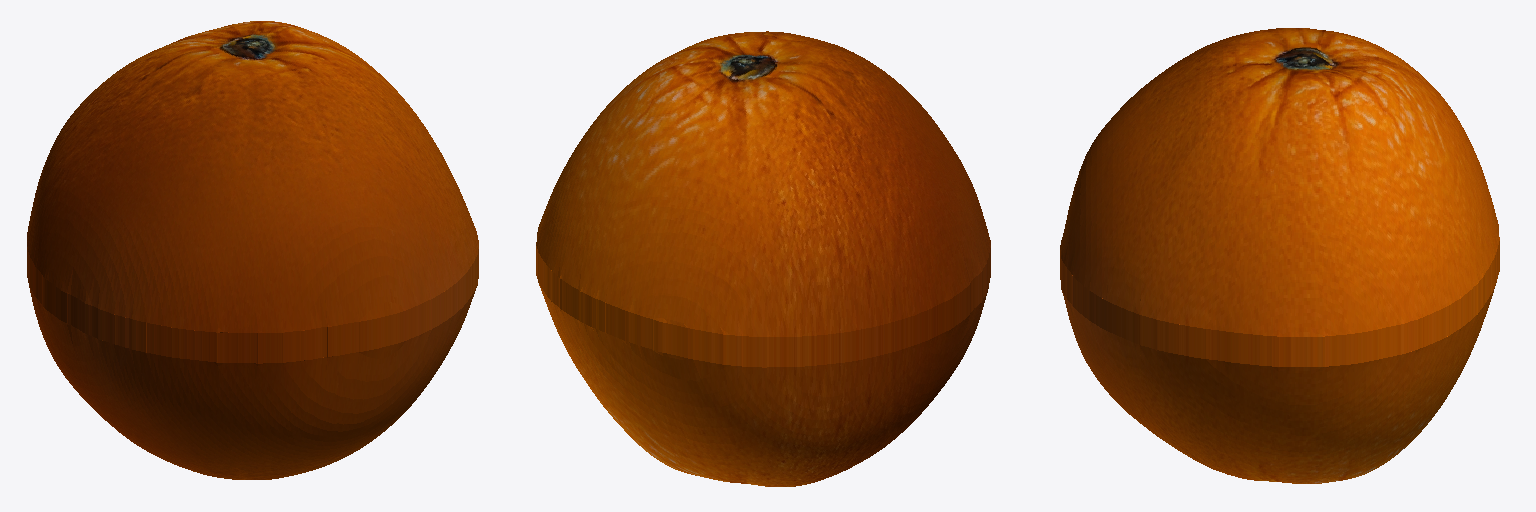
3 renders of one model, left to right at view 1: azimuth 30°, elevation 25°; view 2: azimuth 150°, elevation 25°; view 3: azimuth 270°, elevation 25°, orthographic.
Parts seen in each view (by area): view 1: Grid; view 2: Grid; view 3: Grid.
Part boxes in pixels (bbox=[...]): Grid: bbox=[27, 21, 478, 479]; Grid: bbox=[536, 31, 990, 486]; Grid: bbox=[1060, 28, 1499, 483].
Bounding box in the file's own units: 1.64 × 1.6 × 1.58.
Materials: 1 (1 with a texture image).